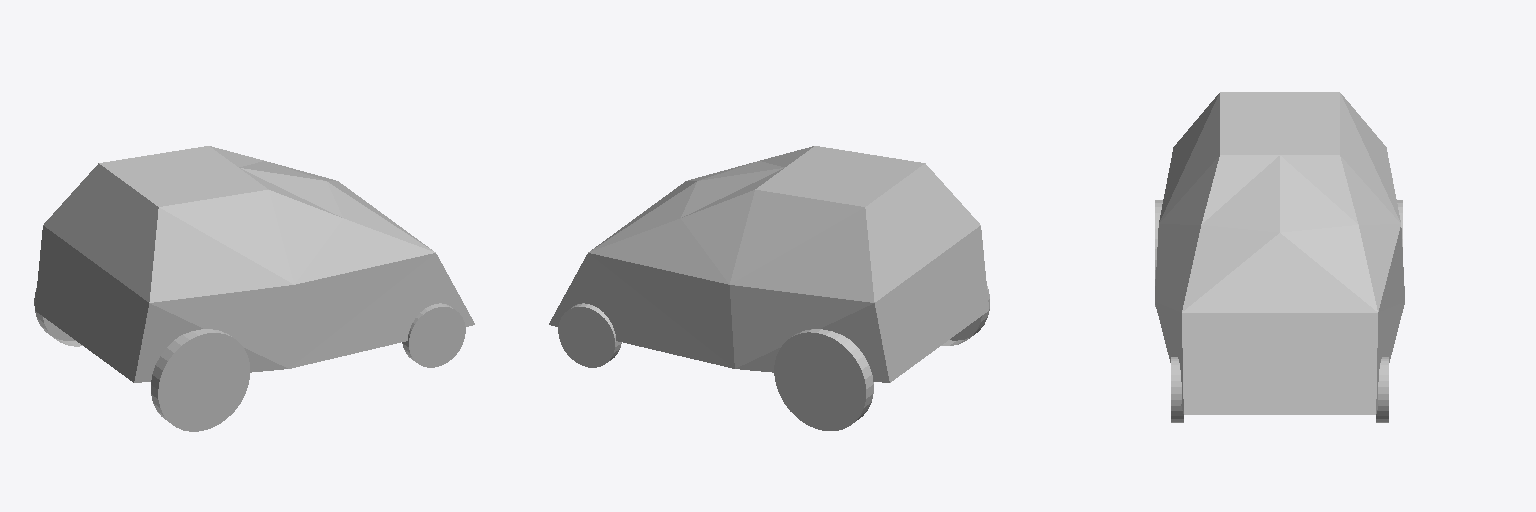
File: mower.obj
The picture shows the model from 3 angles: view 1: azimuth 30°, elevation 25°; view 2: azimuth 150°, elevation 25°; view 3: azimuth 270°, elevation 25°; orthographic projection.
Size of the model in its own units: 1.23 by 0.7005 by 0.7808.